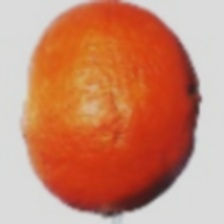tangerine: (45, 19, 209, 170)
